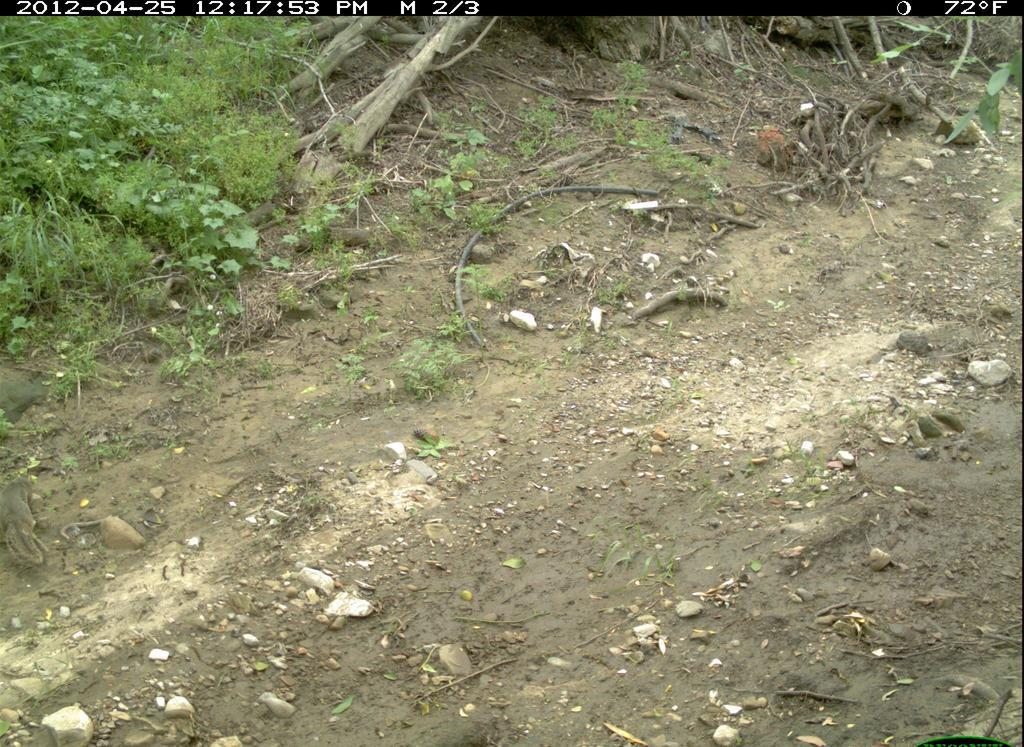squirrel: (6, 472, 59, 577)
